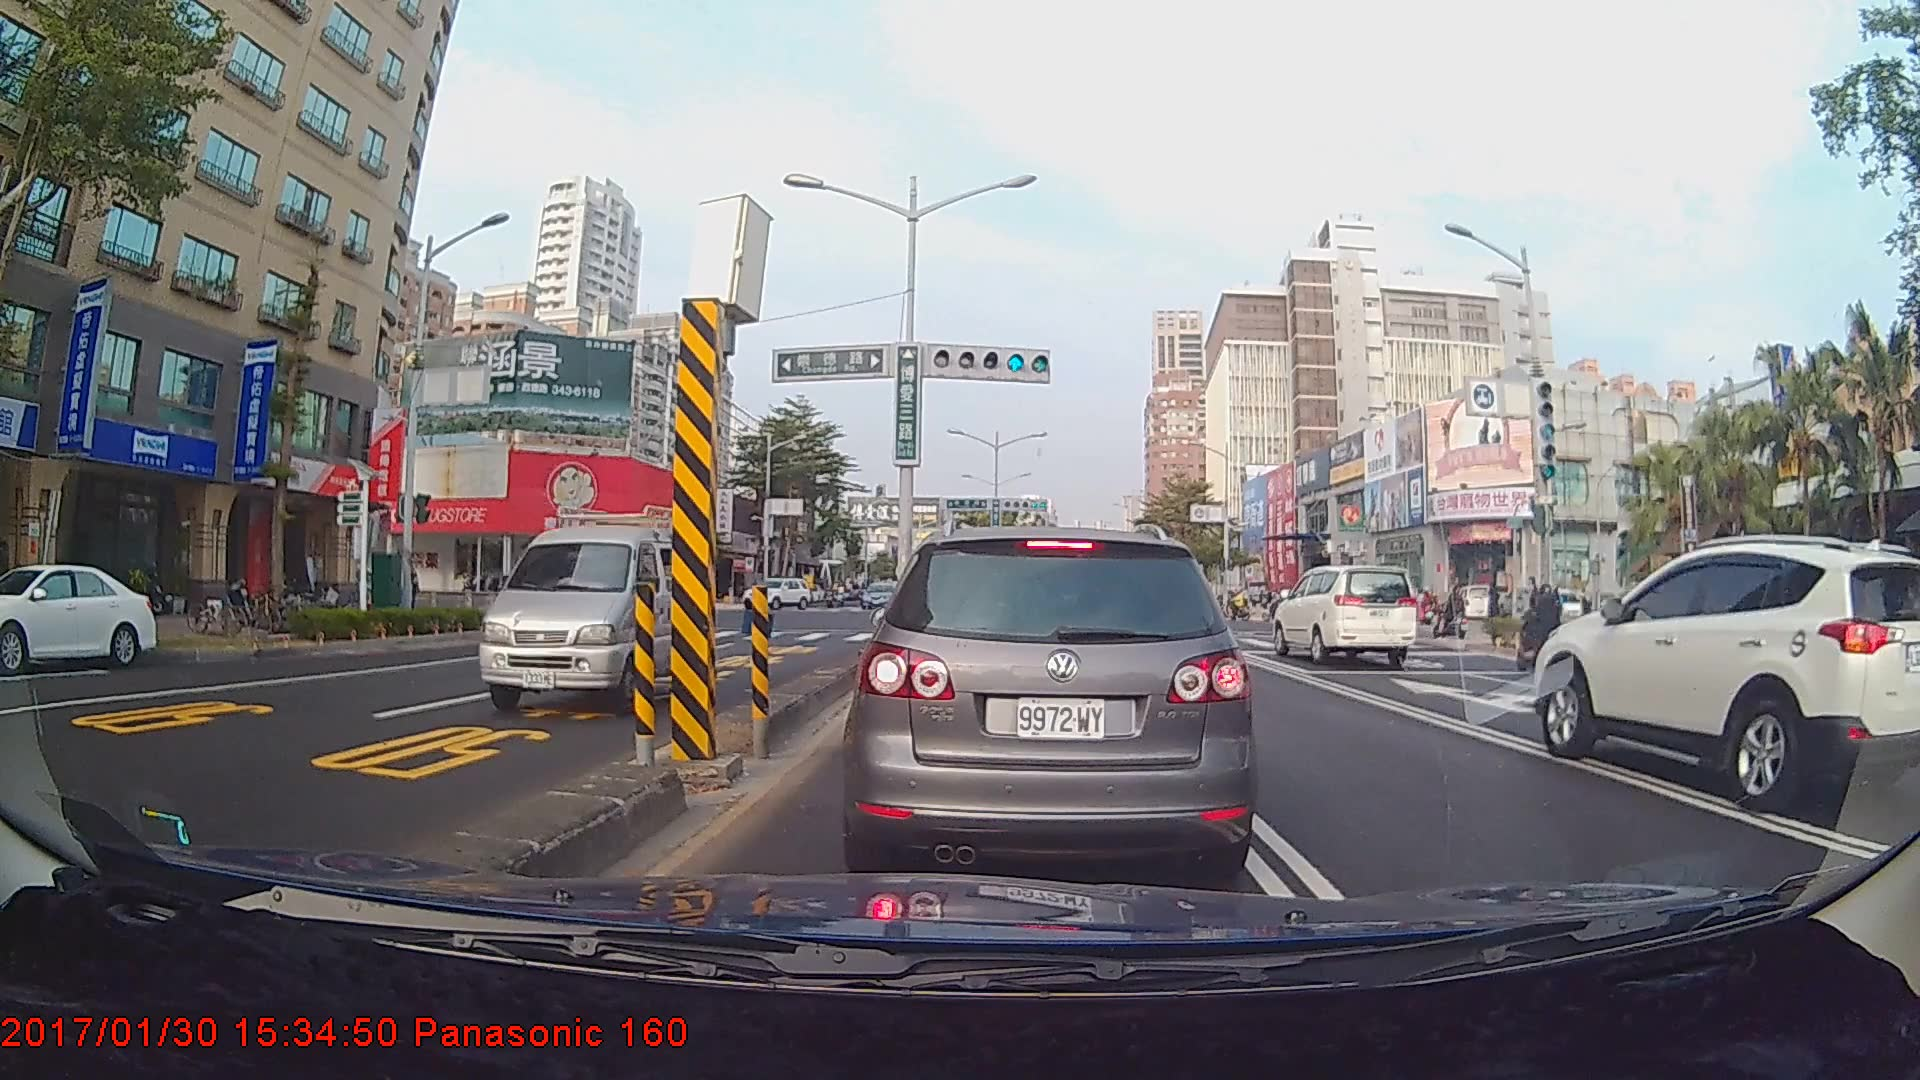pedestrian: (1487, 579, 1508, 637)
rider: (1501, 583, 1576, 688), (518, 559, 554, 629), (1436, 582, 1473, 646)
vehicle: (855, 521, 1250, 882), (1535, 533, 1918, 814), (476, 504, 717, 716), (0, 561, 158, 671), (1268, 563, 1419, 665), (859, 579, 899, 610)
